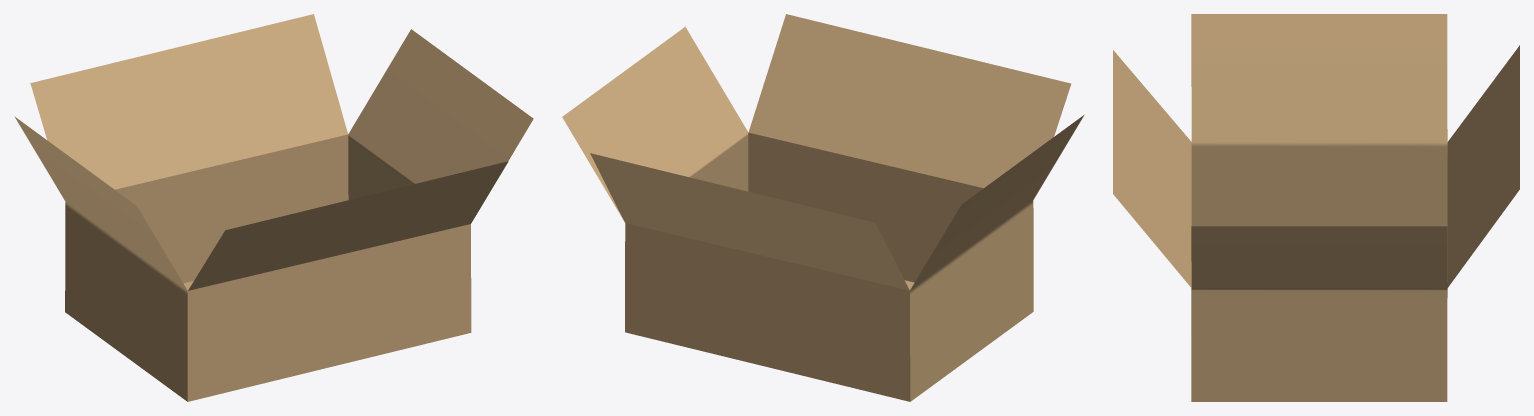
3 views of the same model, side by side, from view 1: azimuth 30°, elevation 25°; view 2: azimuth 150°, elevation 25°; view 3: azimuth 270°, elevation 25° (orthographic). The views are drawn at different scales.
Visible parts, largest first — view 1: polySurface1; view 2: polySurface1; view 3: polySurface1.
Boxes of the visible parts, x1,y1,x2,y2 form: polySurface1: (14,14,533,401); polySurface1: (562,14,1084,401); polySurface1: (1113,14,1519,401).
Size of the model in its own units: 11.2 by 5.62 by 9.53.
